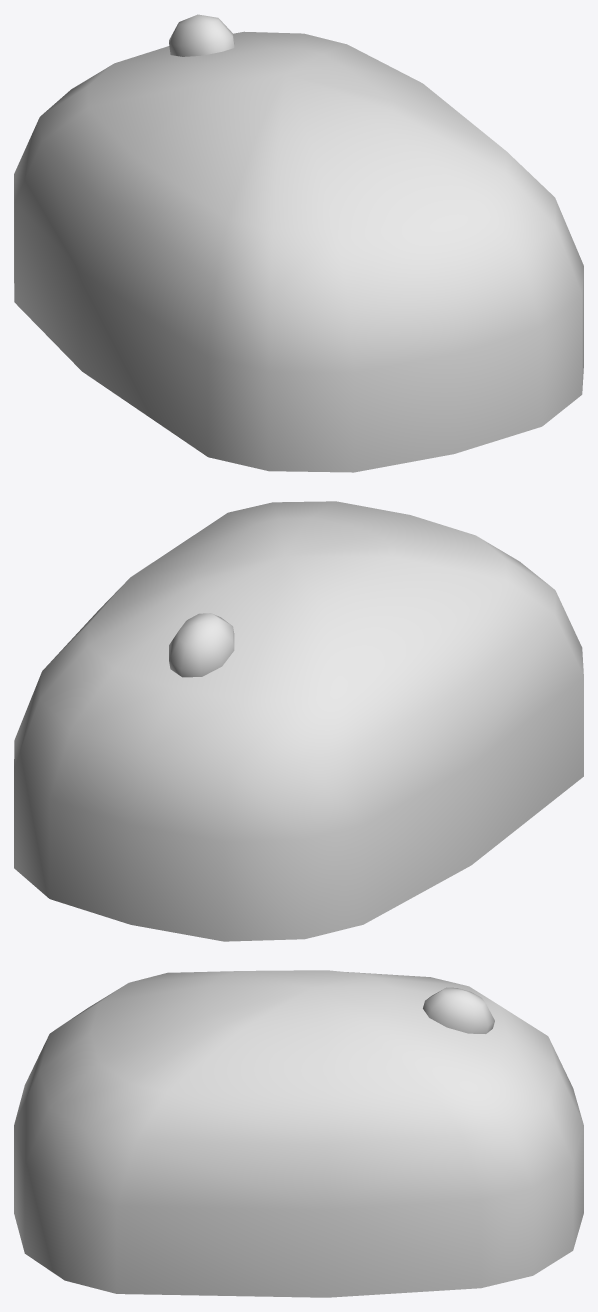
The model's file is mouse.FBX.
3 views of the same model, one above another, from view 1: azimuth 30°, elevation 25°; view 2: azimuth 150°, elevation 25°; view 3: azimuth 270°, elevation 25° (orthographic). The views are drawn at different scales.
Parts seen in each view (by area): view 1: mouse; view 2: mouse; view 3: mouse.
Boxes of the visible parts, <box> form: mouse: <box>14,14,583,472</box>; mouse: <box>14,501,583,941</box>; mouse: <box>14,970,583,1297</box>.
Bounding box in the file's own units: 6 × 3.75 × 8.59.
1 material, 1 textured.
